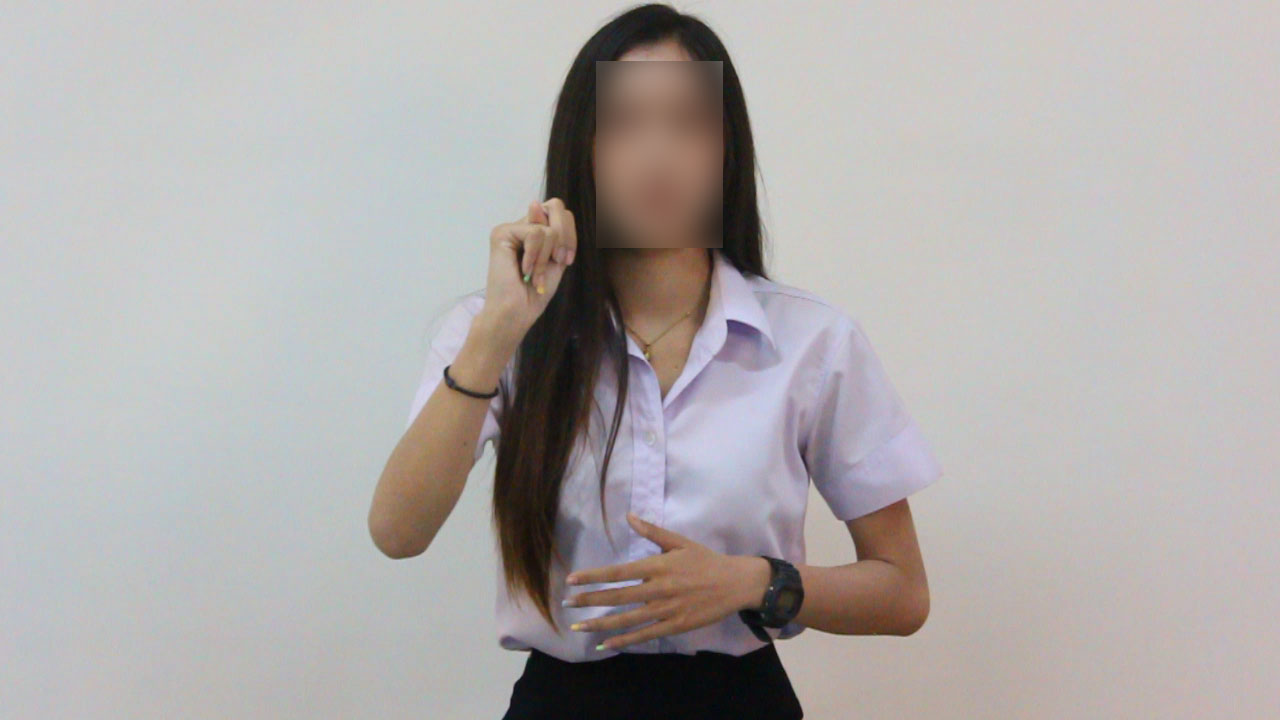nor: (466, 190, 584, 325)
